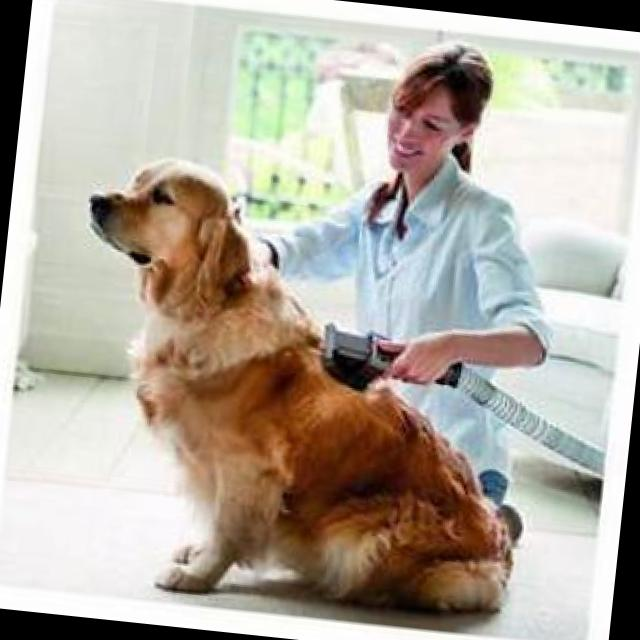animal: (51, 148, 556, 628)
